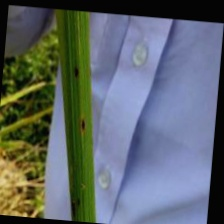Bacterial_Leaf_Blight: (71, 193, 81, 218), (79, 113, 89, 136), (70, 62, 82, 81)
